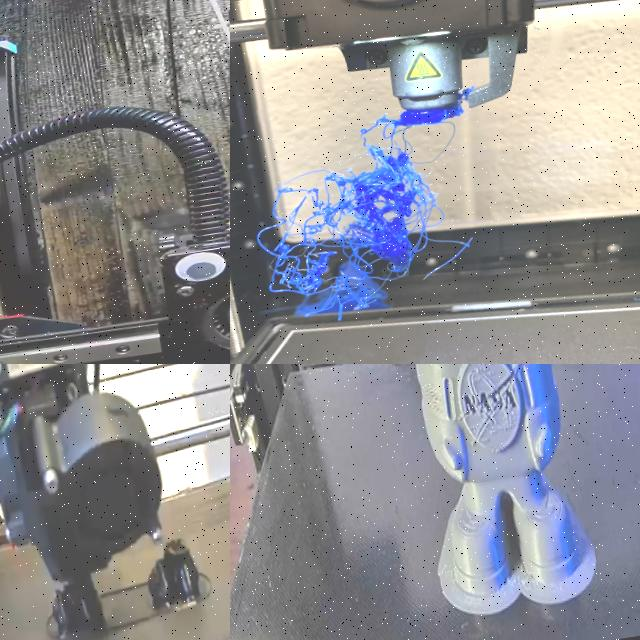spaghetti: (256, 87, 478, 322)
